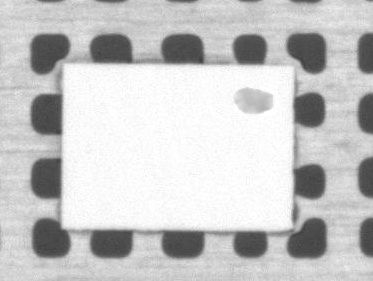DIE_INK: (304, 62, 368, 89)
